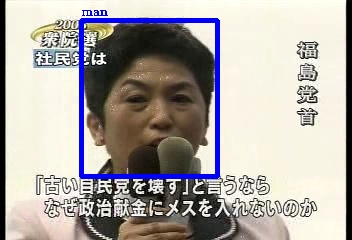man: (81, 20, 217, 176)
